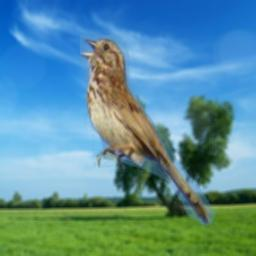Sparrow: (80, 35, 216, 227)
